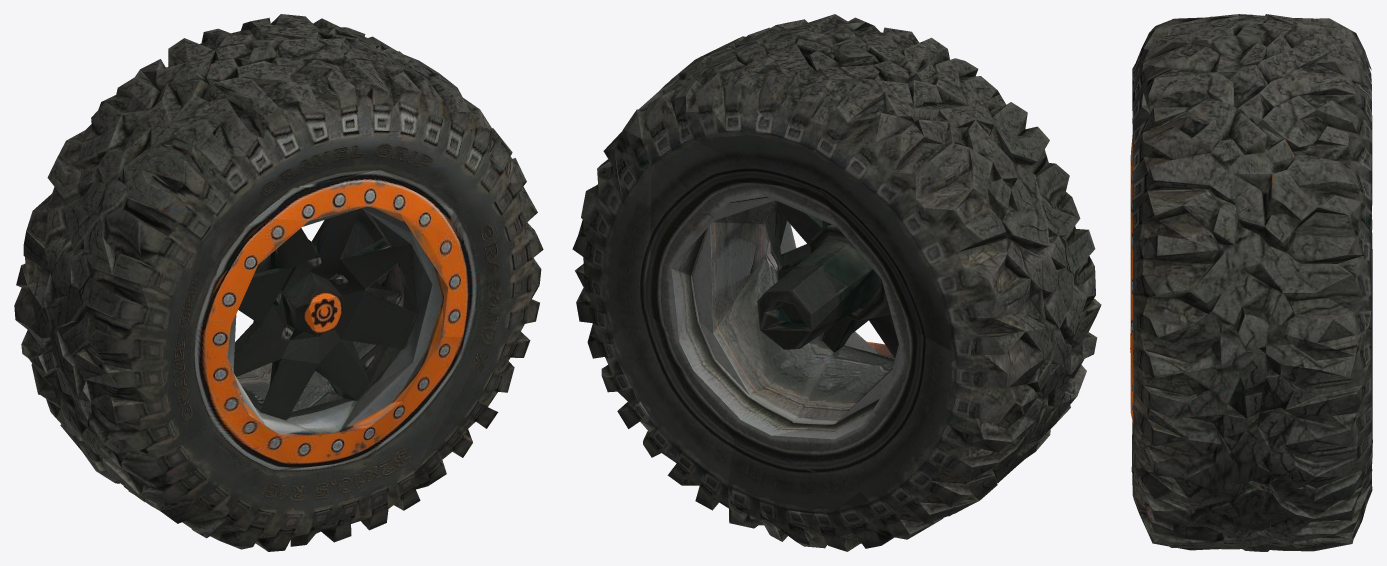
The model's file is rim8.glb.
The picture shows the model from 3 angles, left to right: view 1: azimuth 30°, elevation 25°; view 2: azimuth 150°, elevation 25°; view 3: azimuth 270°, elevation 25°; orthographic projection. The views are drawn at different scales.
Bounding box in the file's own units: 1.89 × 1.89 × 0.8541.
Materials: 1 (1 with a texture image).
